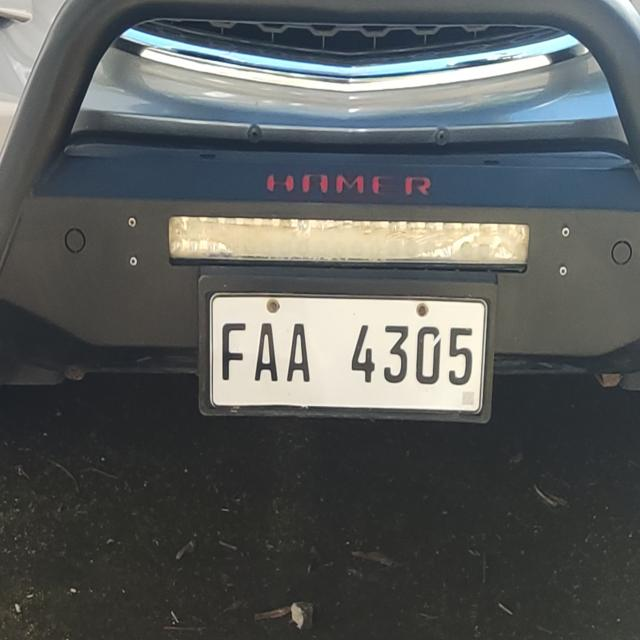plate: (199, 276, 492, 422)
